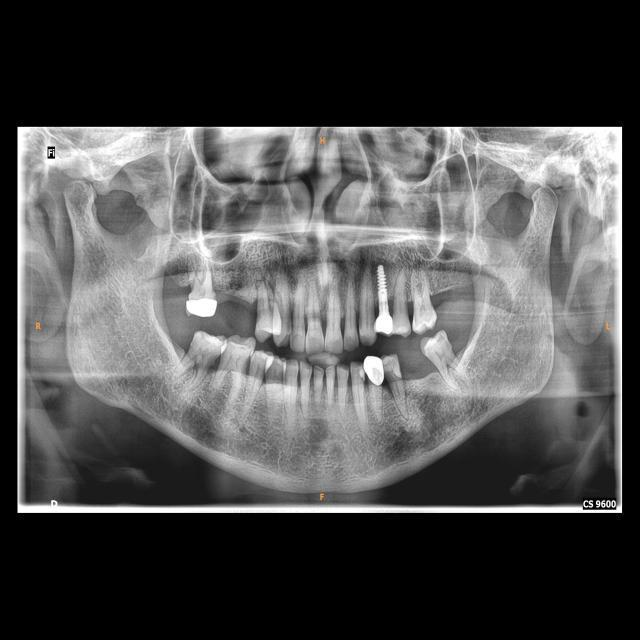implant: (372, 265, 396, 334)
kaplama: (185, 297, 220, 319), (362, 354, 385, 384)
